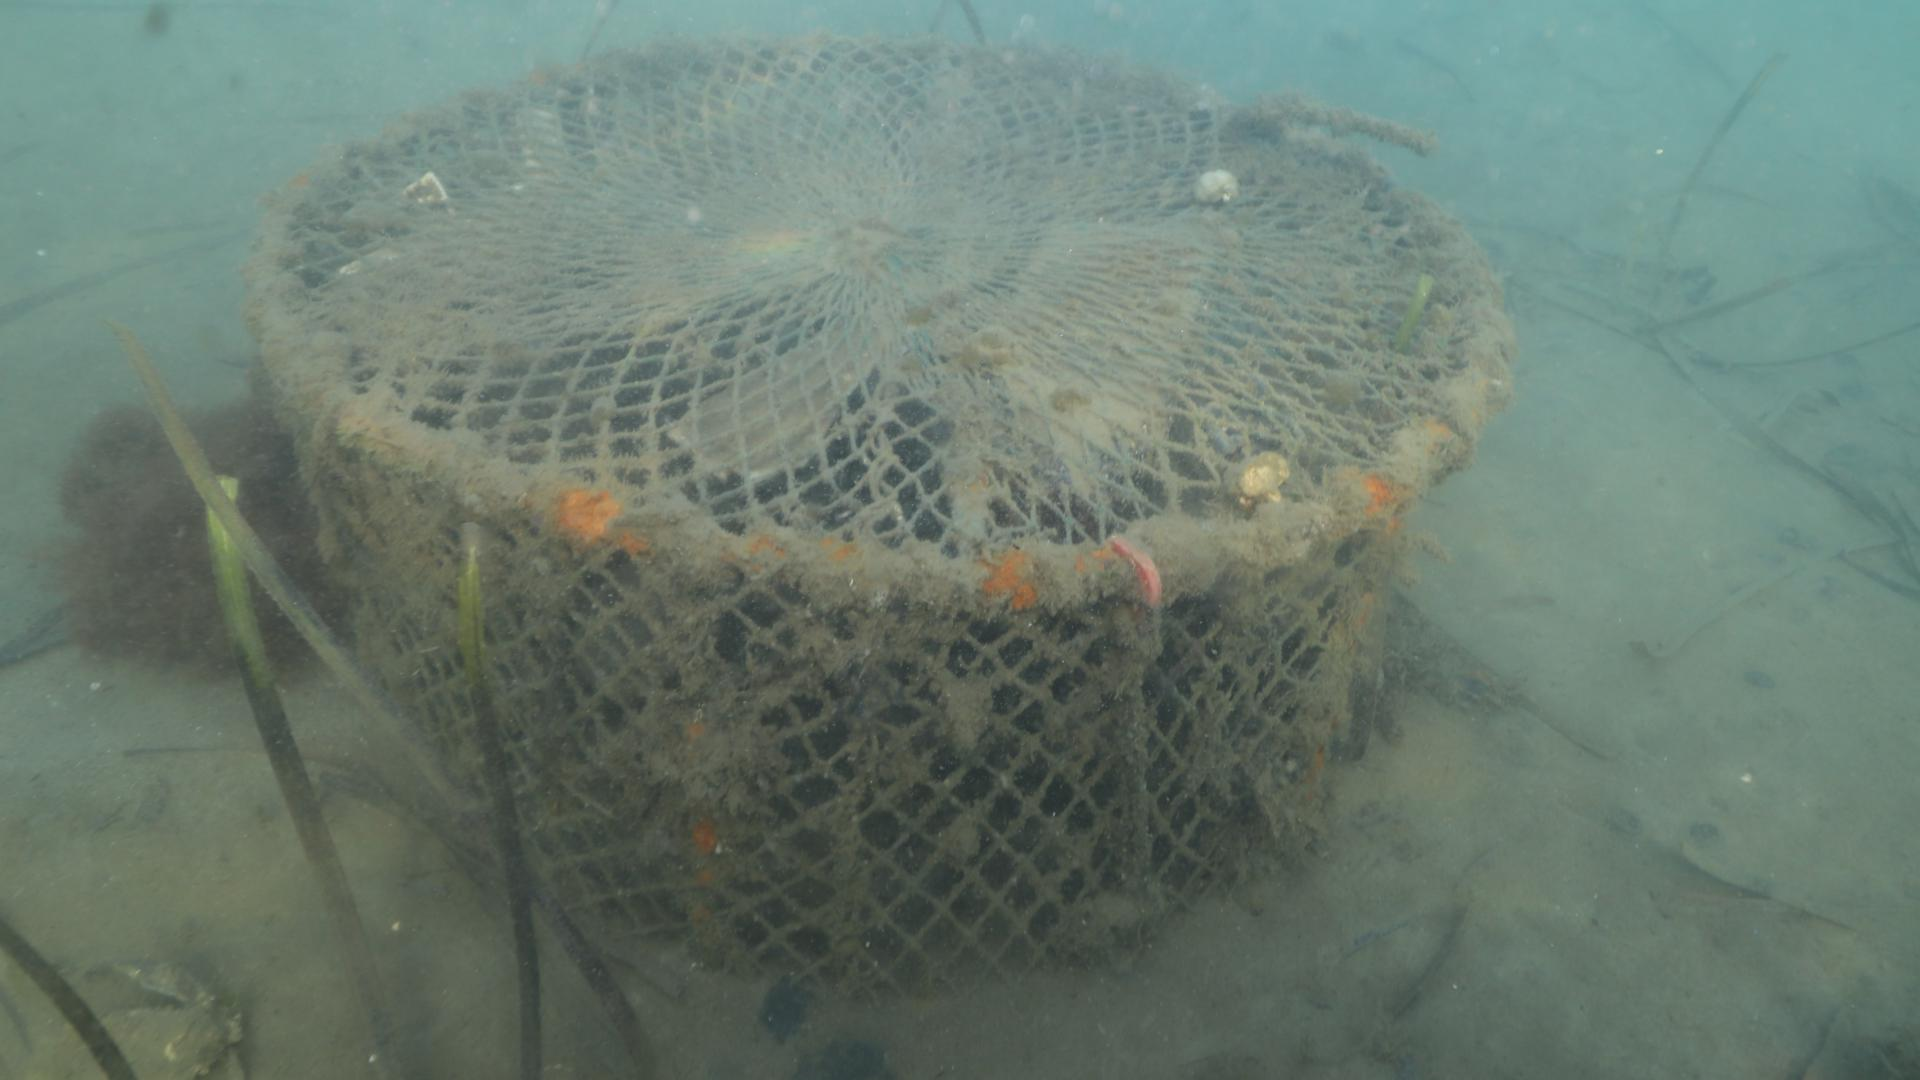circular fish trap: (251, 33, 1506, 1007)
